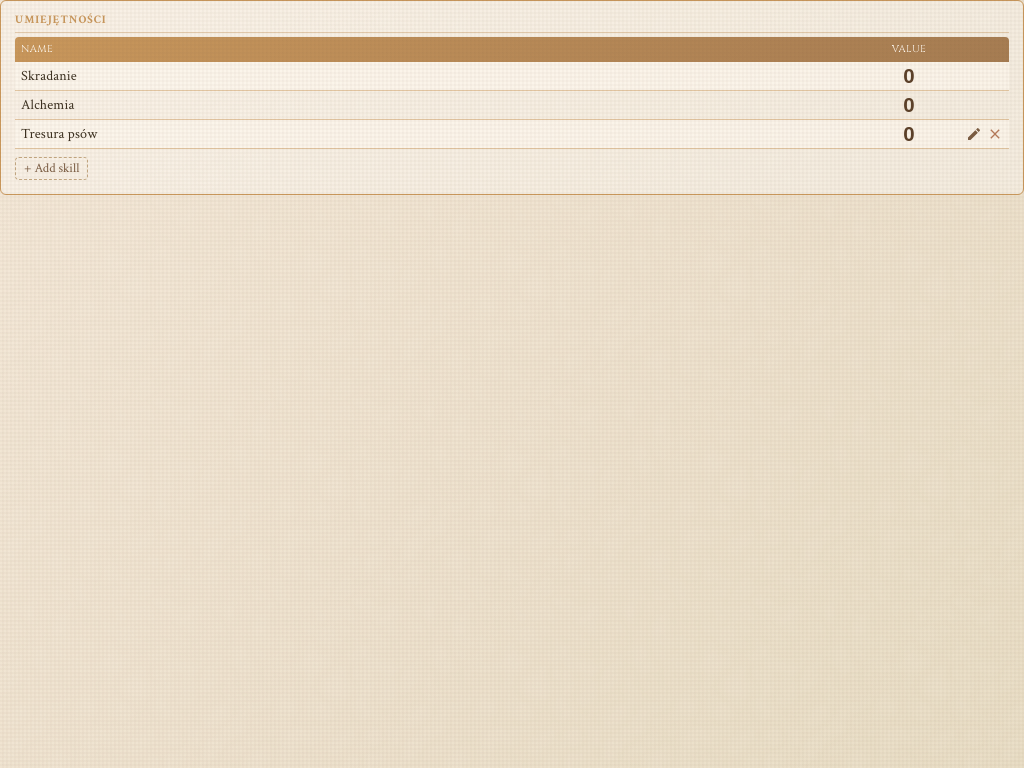
it: CustomSheetBody skill_table — player-added rows › leaves edit mode on the check button and comes back on the pencil
The image size is (1024, 768).
What coordinates should you click on to do the following:
click the button with class "custom-sheet__skill-edit"
I would click on:
 (974, 134)
Its box is left=965, top=125, right=983, bottom=143.
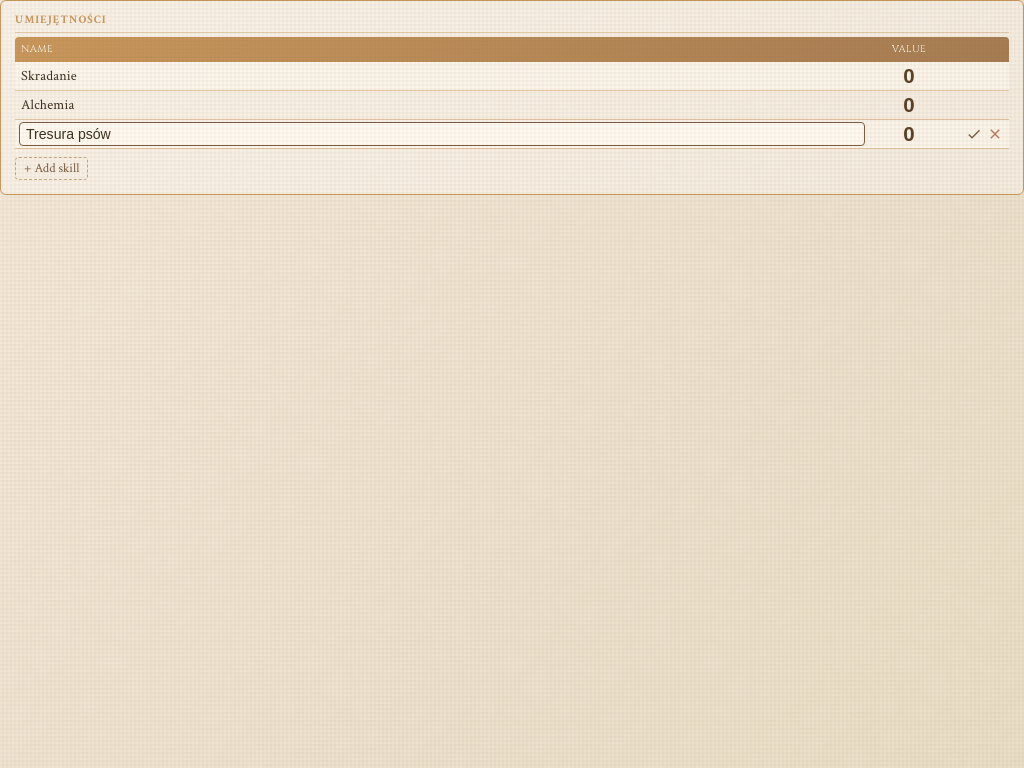
Check: the field with class "custom-sheet__skill-name-input" is shown, box left=19, top=122, right=865, bottom=146
What coordinates should you click on to do the following:
click the button with class "custom-sheet__skill-edit"
I would click on:
 (974, 134)
Its box is left=965, top=125, right=983, bottom=143.
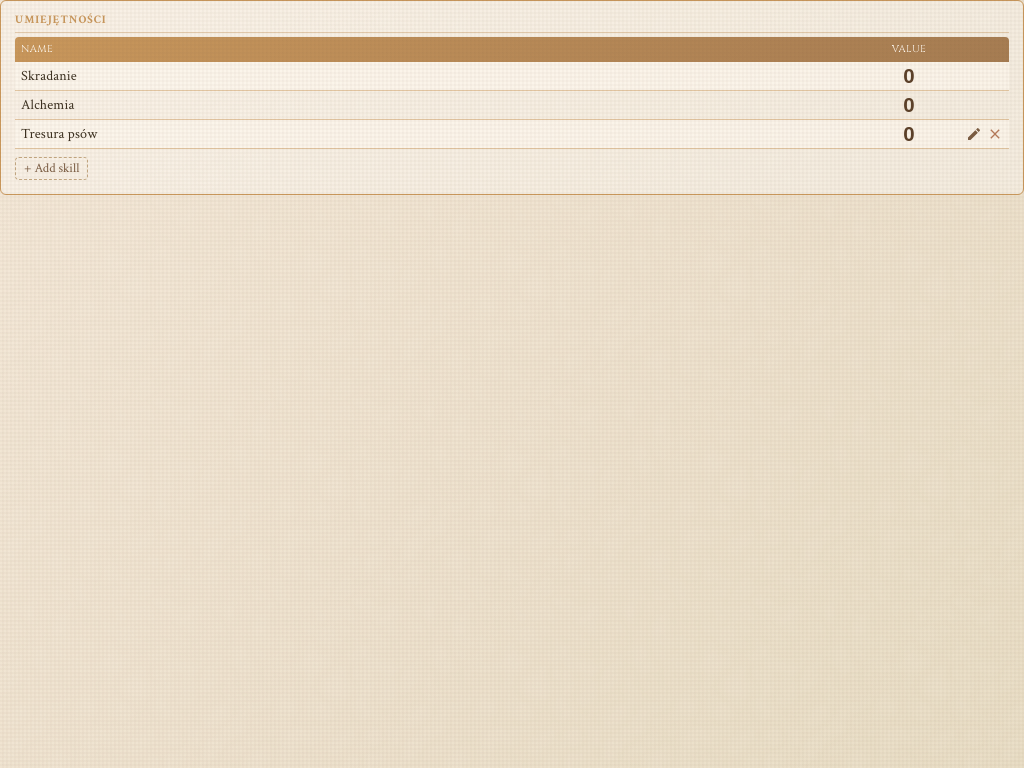
Check: the field with class "custom-sheet__skill-name-input" is gone
